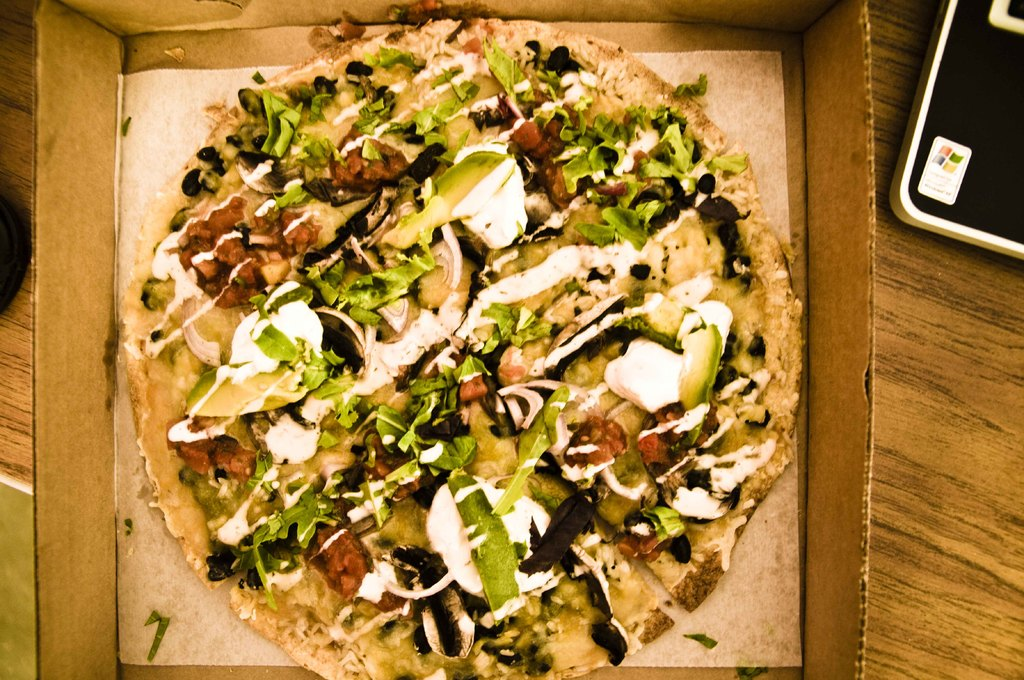Pizza: (66, 39, 821, 675)
